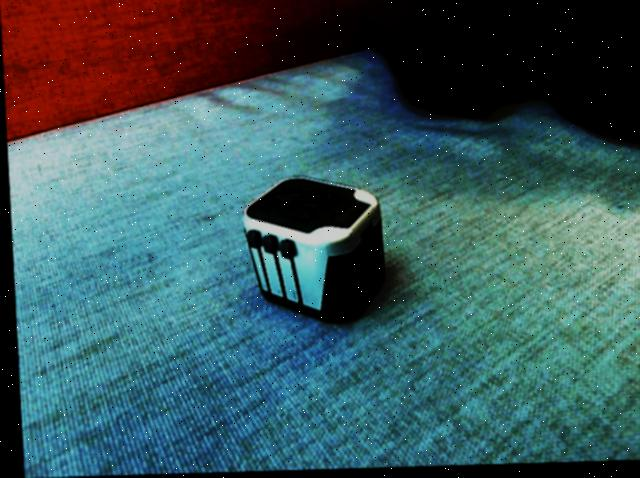adapter: (238, 177, 385, 327)
